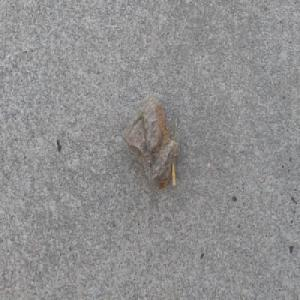Rock: (121, 92, 178, 190)
